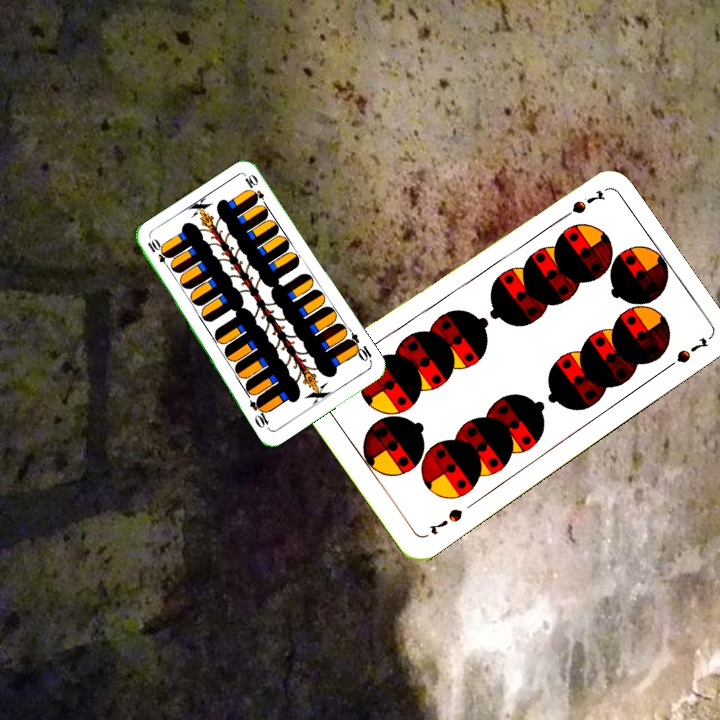E10: (343, 329, 375, 365), (143, 236, 174, 272)
S7: (554, 185, 606, 224), (426, 504, 465, 538)
